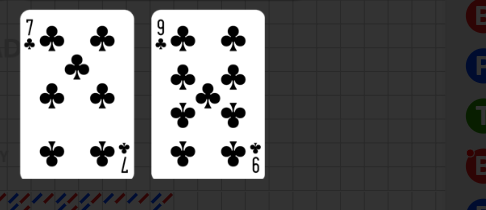7C: (23, 17, 37, 52)
9C: (249, 140, 263, 175)
